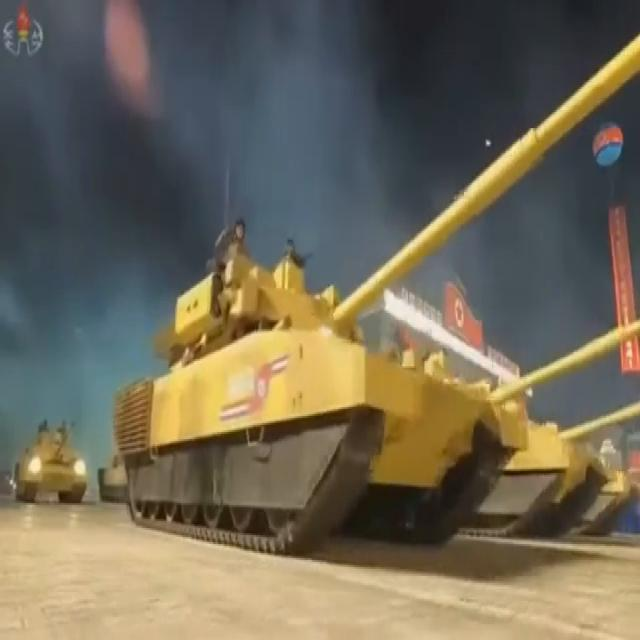north tank: (115, 25, 640, 574), (9, 385, 100, 514)
